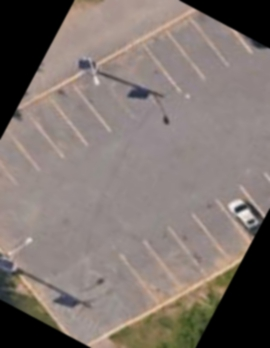parkingspot: (0, 7, 270, 203), (113, 160, 270, 312)
